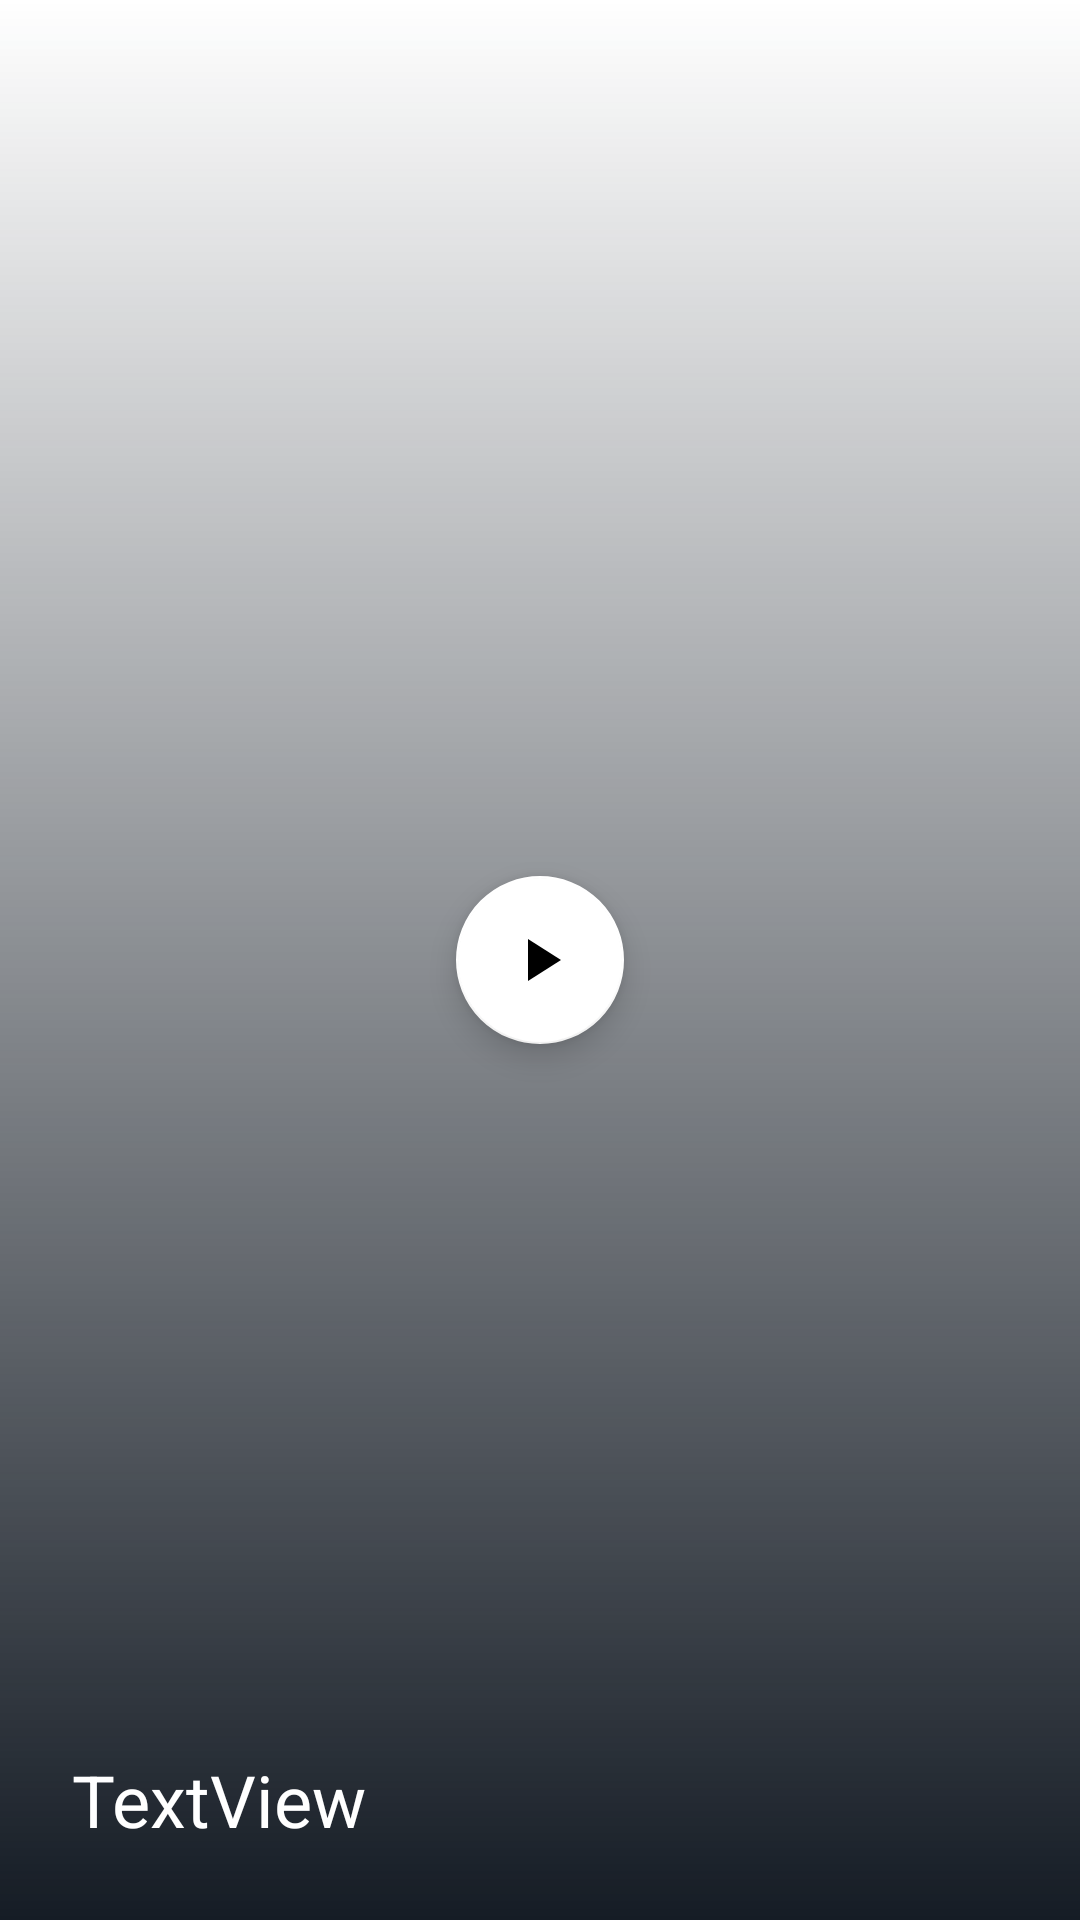

Screen size 1080px x 1920px. Icon name, then its box in pixels as (x1, y1, x2, y2):
play arrow: (456, 876, 624, 1044)
